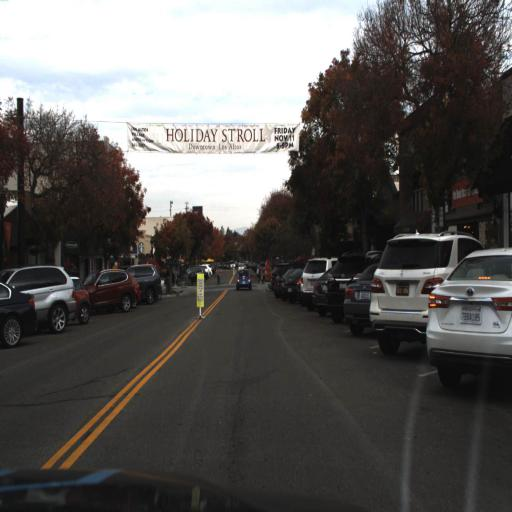car: (368, 230, 477, 358), (424, 248, 512, 404), (4, 264, 76, 332), (0, 281, 35, 353), (325, 253, 361, 320), (295, 257, 334, 306), (346, 266, 374, 333), (93, 273, 134, 311), (69, 274, 92, 325), (130, 263, 160, 300), (312, 270, 330, 318), (236, 269, 251, 289)
